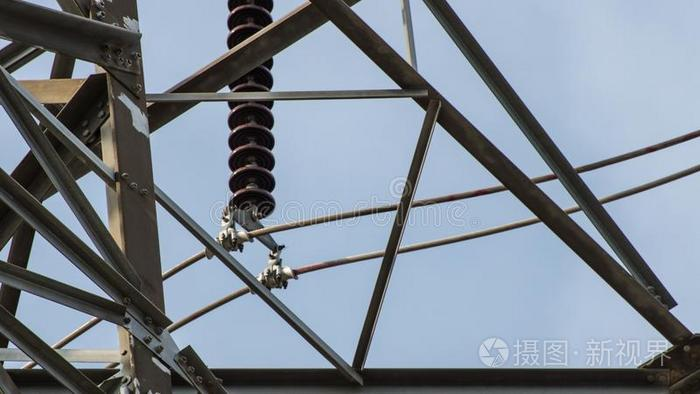insulator: (222, 1, 279, 218)
